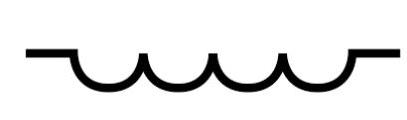inductor: (28, 34, 365, 100)
